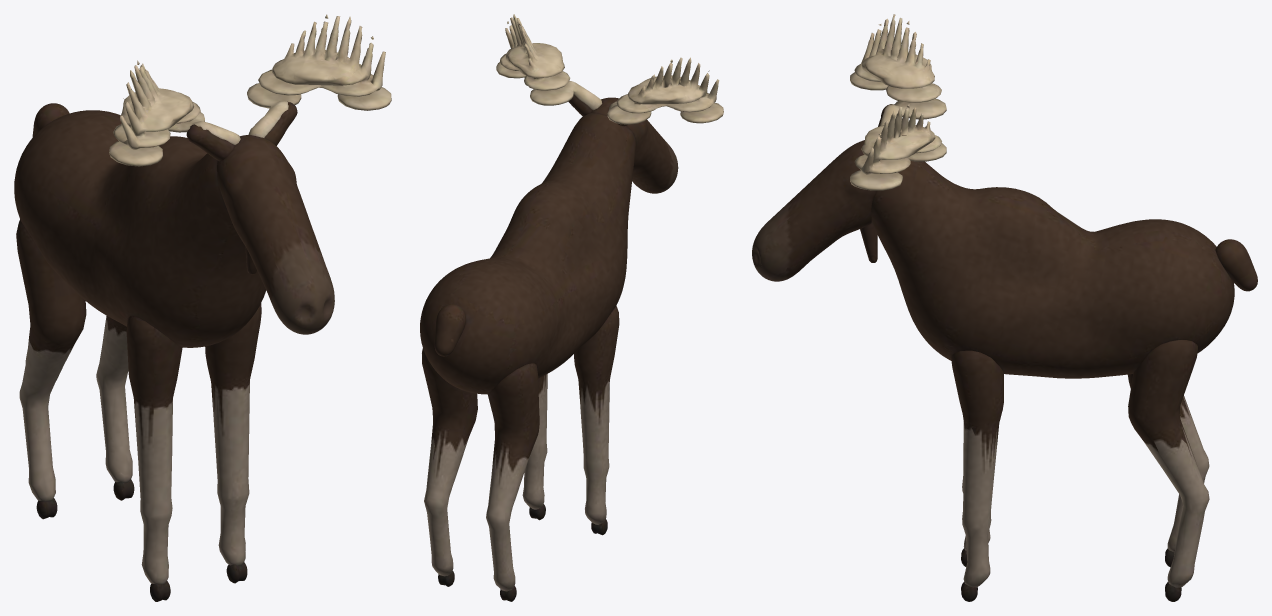
The model's file is animal_moose.glb.
3 views of the same model, side by side, from view 1: azimuth 30°, elevation 25°; view 2: azimuth 150°, elevation 25°; view 3: azimuth 270°, elevation 25° (orthographic). The views are drawn at different scales.
Parts seen in each view (by area): view 1: animal_moose, head, leg0, leg2, leg1, leg3, tail; view 2: animal_moose, head, leg2, leg3, leg0, leg1, tail; view 3: animal_moose, head, leg3, leg1, leg2, tail.
Boxes of the visible parts, box(x1,y1,x2,y2) form: animal_moose: box(14, 110, 266, 347); head: box(109, 14, 391, 334); leg0: box(126, 316, 182, 601); leg2: box(16, 219, 86, 519); leg1: box(205, 303, 261, 583); leg3: box(96, 316, 134, 500); tail: box(32, 103, 69, 137); animal_moose: box(420, 112, 635, 394); head: box(496, 14, 723, 193); leg2: box(486, 363, 539, 601); leg3: box(422, 348, 477, 586); leg0: box(574, 306, 619, 535); leg1: box(522, 374, 547, 520); tail: box(434, 304, 465, 356); animal_moose: box(871, 161, 1234, 378); head: box(752, 14, 946, 281); leg3: box(1128, 340, 1209, 601); leg1: box(951, 350, 1003, 601); leg2: box(1128, 374, 1209, 567); tail: box(1215, 239, 1257, 291).
Size of the model in its own units: 0.5679 by 1.15 by 1.01.
Materials: 1 (1 with a texture image).
